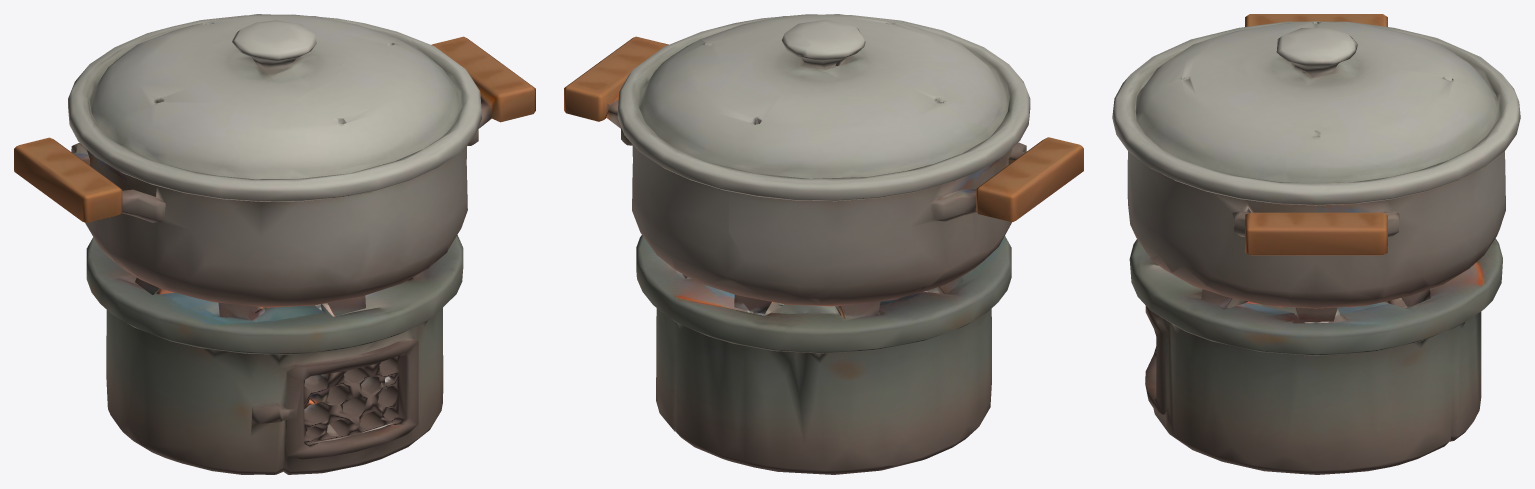
Rendered from noi_com.glb.
3 views of the same model, side by side, from view 1: azimuth 30°, elevation 25°; view 2: azimuth 150°, elevation 25°; view 3: azimuth 270°, elevation 25° (orthographic).
Parts seen in each view (by area): view 1: tripo_node_fcabf234; view 2: tripo_node_fcabf234; view 3: tripo_node_fcabf234.
Boxes of the visible parts, bbox=[...] form: tripo_node_fcabf234: bbox=[14, 14, 535, 474]; tripo_node_fcabf234: bbox=[564, 14, 1083, 474]; tripo_node_fcabf234: bbox=[1112, 14, 1520, 474].
Bounding box in the file's own units: 2.14 × 1.71 × 1.7.
1 material, 1 textured.
